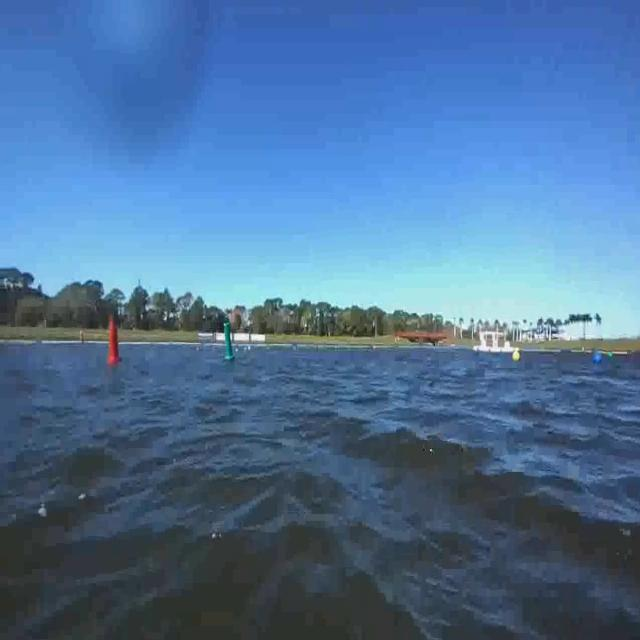green-column-buoy: (222, 310, 242, 366)
red-column-buoy: (103, 309, 122, 366)
